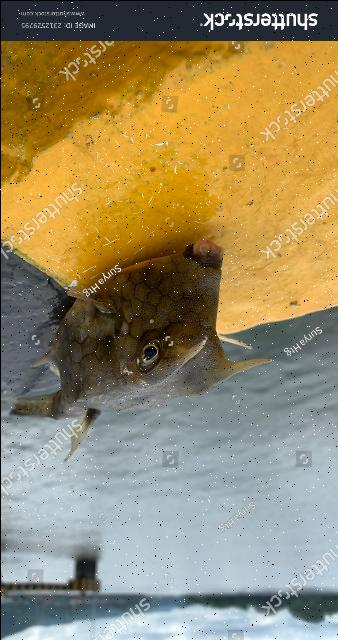Mulut: (162, 194, 242, 296)
